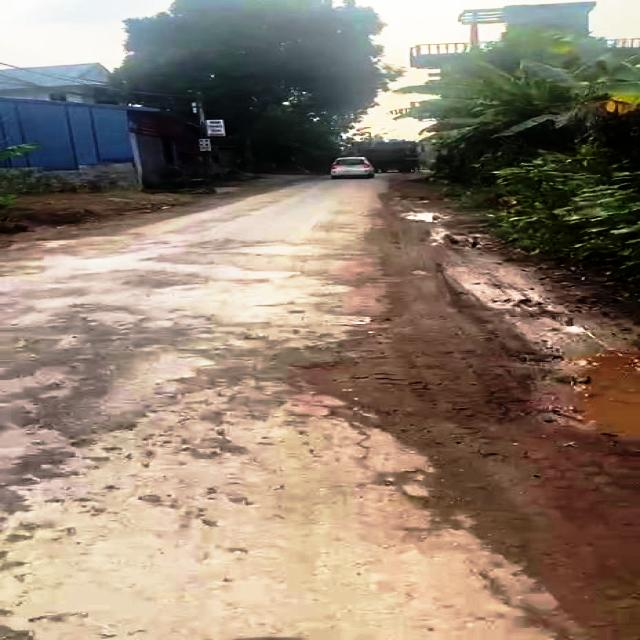pothole: (518, 342, 640, 451)
